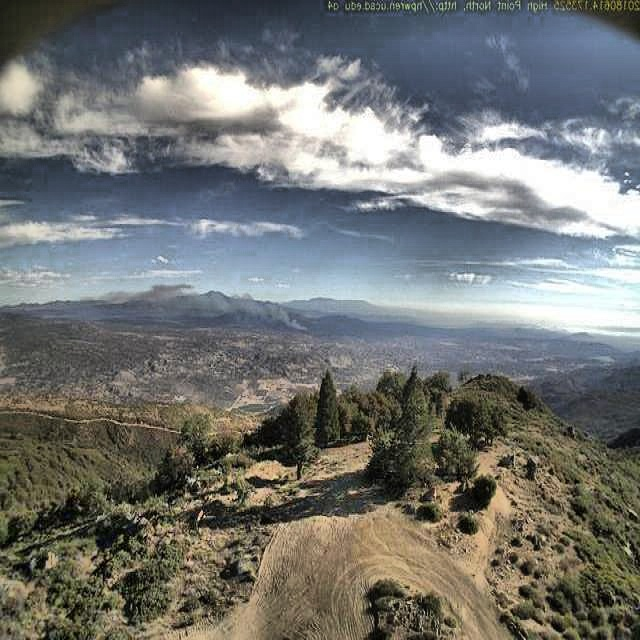smoke: (123, 271, 315, 337)
